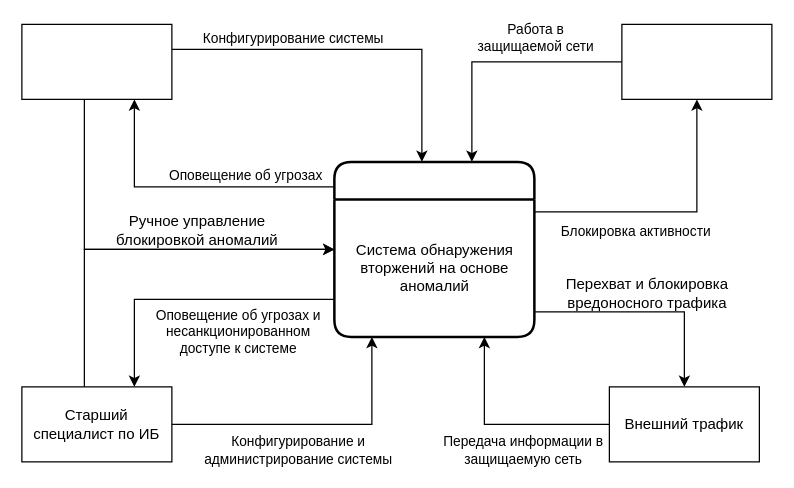
Image size: 794x488. Some labels were removed from this diagram. Each missing label, with the box of its shape:
Пользователь: (621, 23, 772, 99)
Специалист по ИБ: (21, 23, 172, 99)
